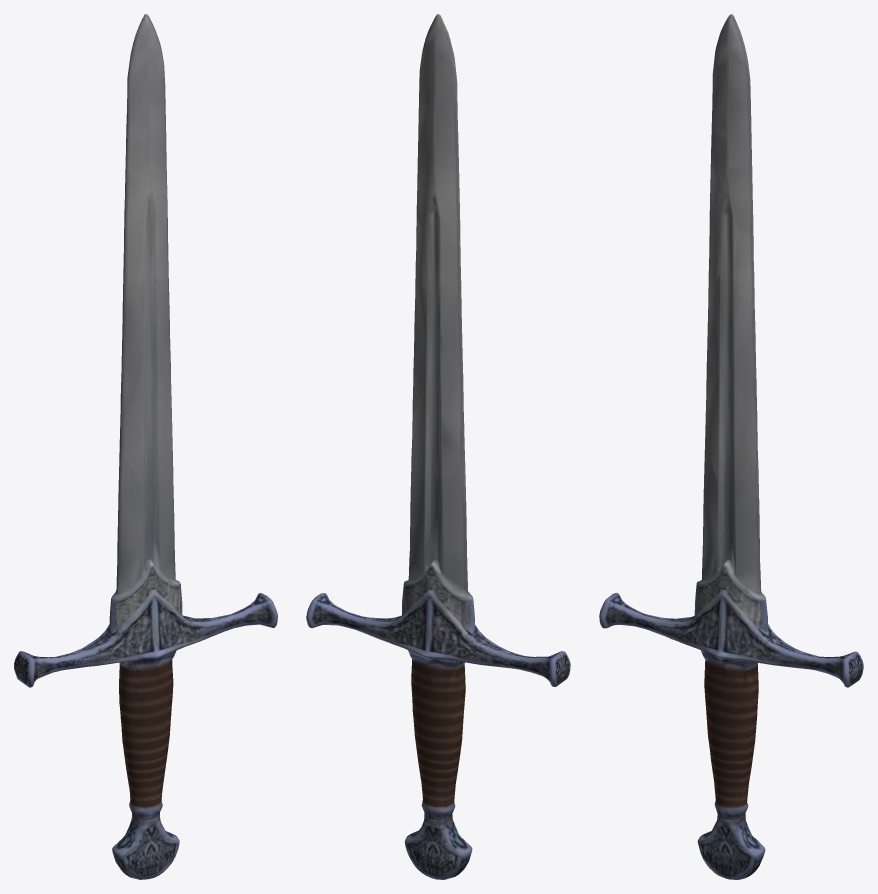
The model's file is sword.glb.
The picture shows the model from 3 angles, left to right: view 1: azimuth 30°, elevation 25°; view 2: azimuth 150°, elevation 25°; view 3: azimuth 330°, elevation 25°; orthographic projection.
Parts seen in each view (by area): view 1: world; view 2: world; view 3: world.
Boxes of the visible parts, <box> form: world: <box>14,14,277,879</box>; world: <box>306,14,570,879</box>; world: <box>599,14,863,879</box>.
Size of the model in its own units: 0.3024 by 1 by 0.0544.
Materials: 1 (1 with a texture image).
